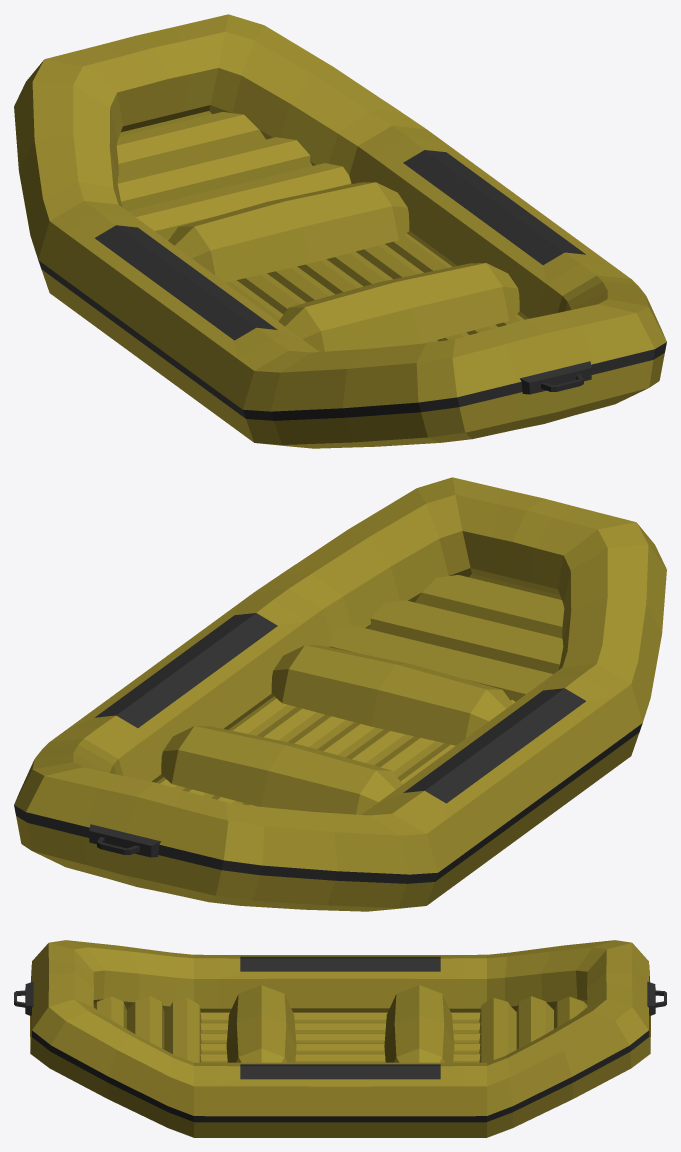
The model's file is Raft.glb.
3 renders of one model, top to bottom at view 1: azimuth 30°, elevation 25°; view 2: azimuth 150°, elevation 25°; view 3: azimuth 270°, elevation 25°, orthographic. The views are drawn at different scales.
Parts seen in each view (by area): view 1: Raft; view 2: Raft; view 3: Raft.
Boxes of the visible parts, left/top/right/bottom form: Raft: left=14, top=14, right=666, bottom=448; Raft: left=14, top=477, right=666, bottom=911; Raft: left=14, top=940, right=666, bottom=1137.
Bounding box in the file's own units: 11.96 × 4.3 × 23.65.
